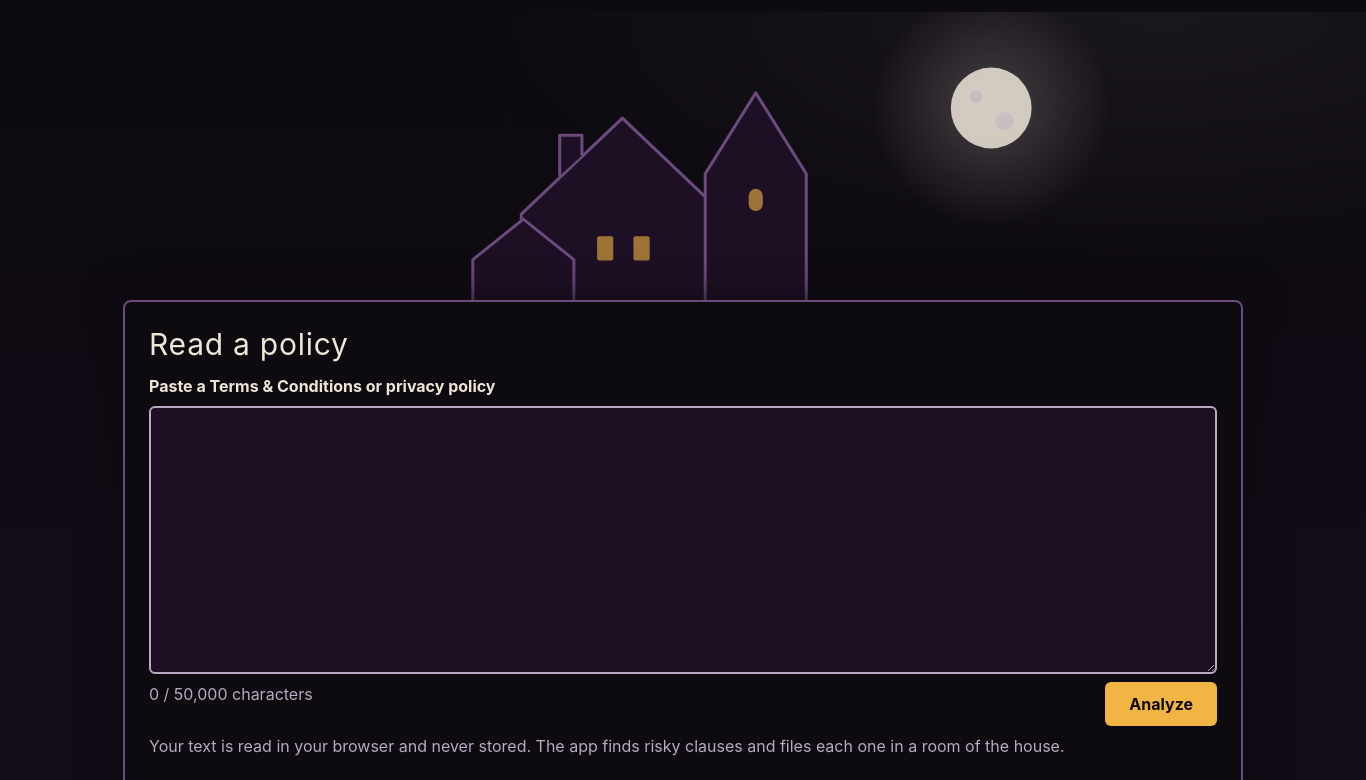
Test case: HauntedApp error boundary (R17.5) › shows the load-error message instead of a blank page when the house view throws while rendering
Type "We may sell your data." into the text box labelled "Paste a Terms & Conditions or privacy policy" at (683, 540), box [149,406,1217,674]
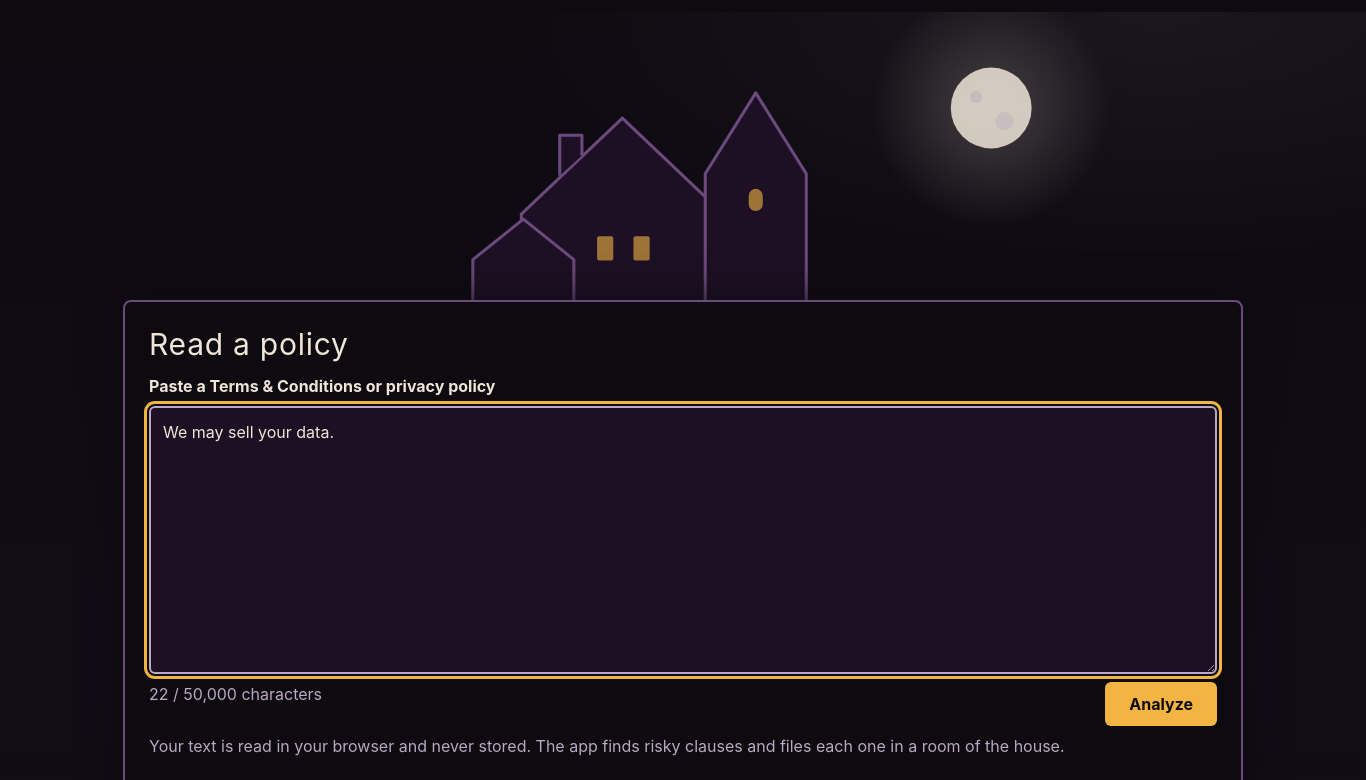
Click the button "Analyze" at (1161, 704), box [1105,682,1217,726]
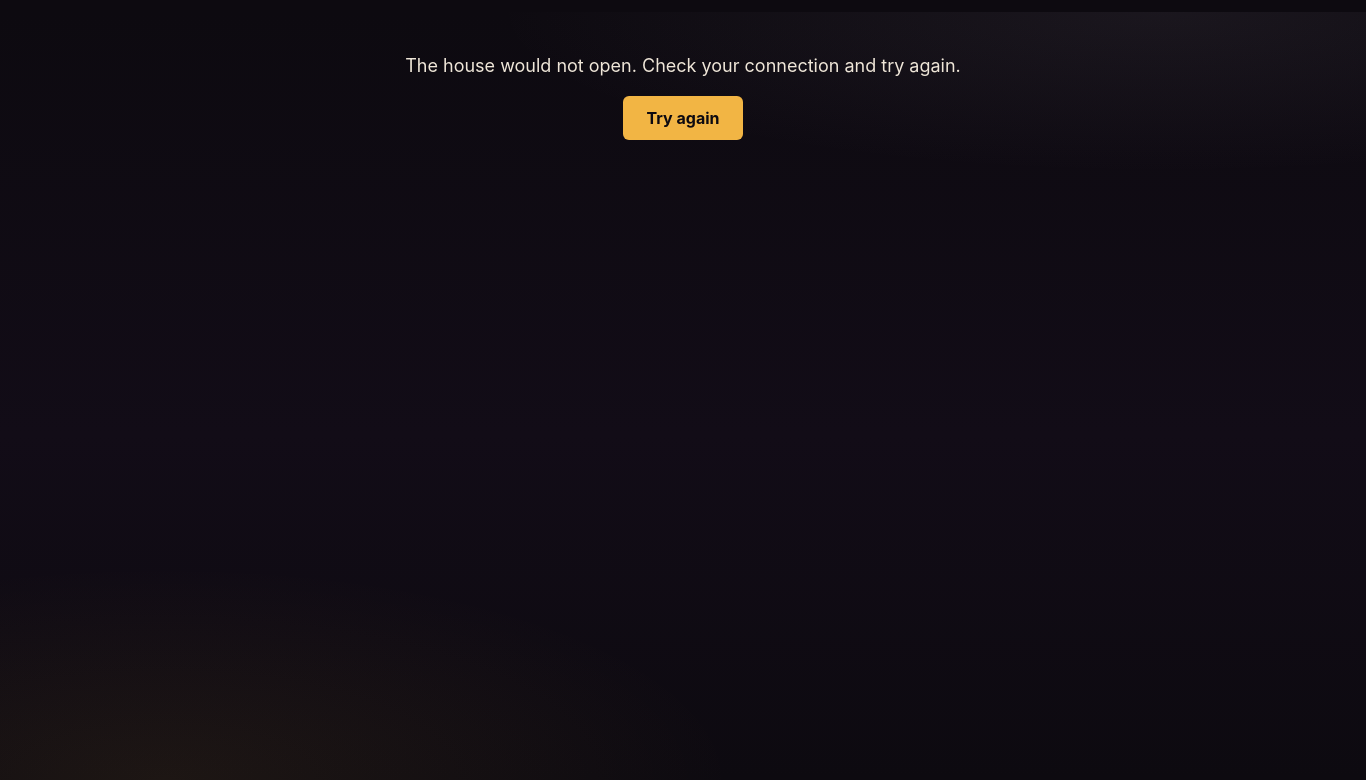
Check: the text "The house would not open. Check your connection and try again." is shown, box [405,55,961,76]
Check: the button "Try again" is shown, box [622,96,744,140]
